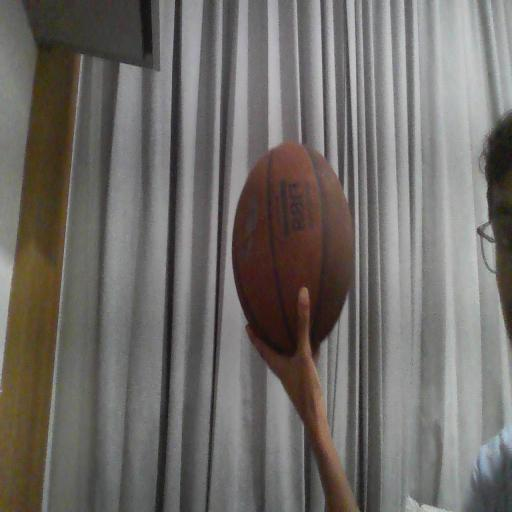basketball: (232, 143, 354, 354)
